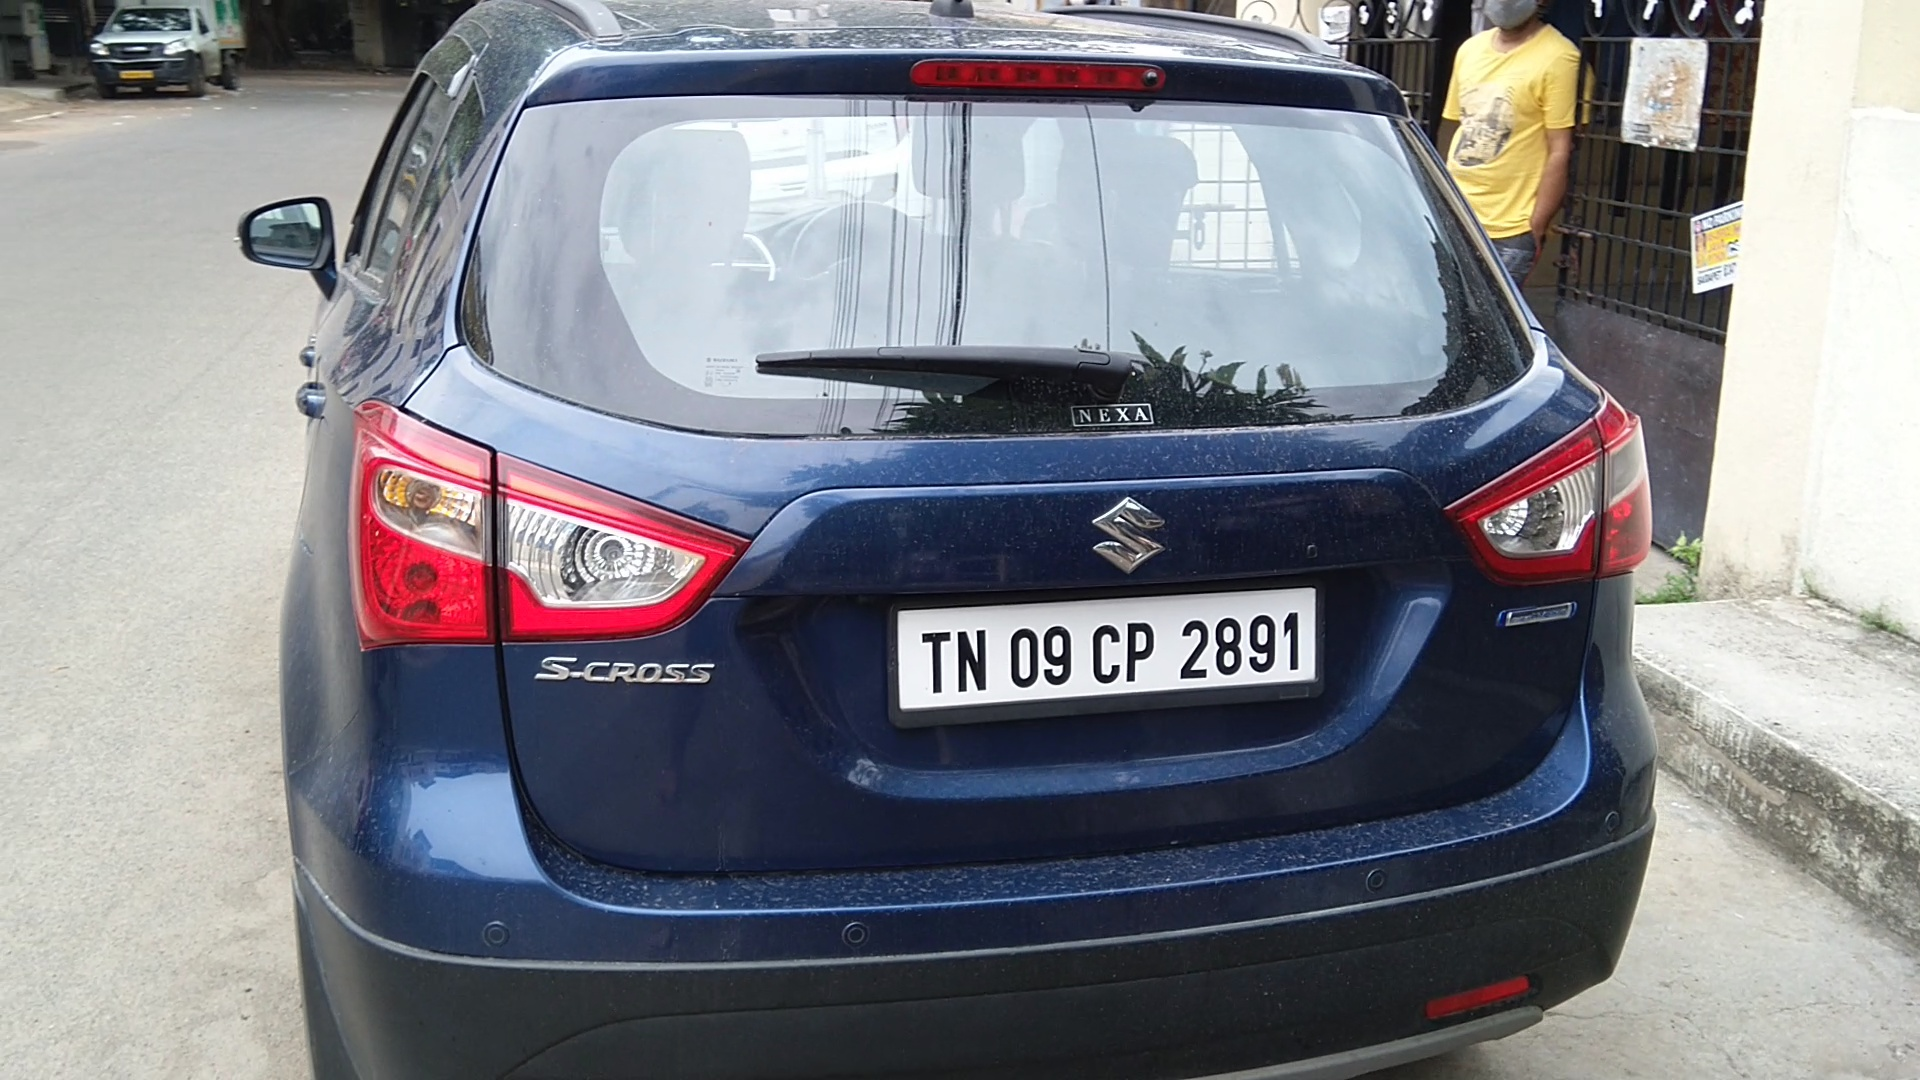rear_camera: (1138, 61, 1167, 94)
shvs: (1487, 587, 1585, 640)
